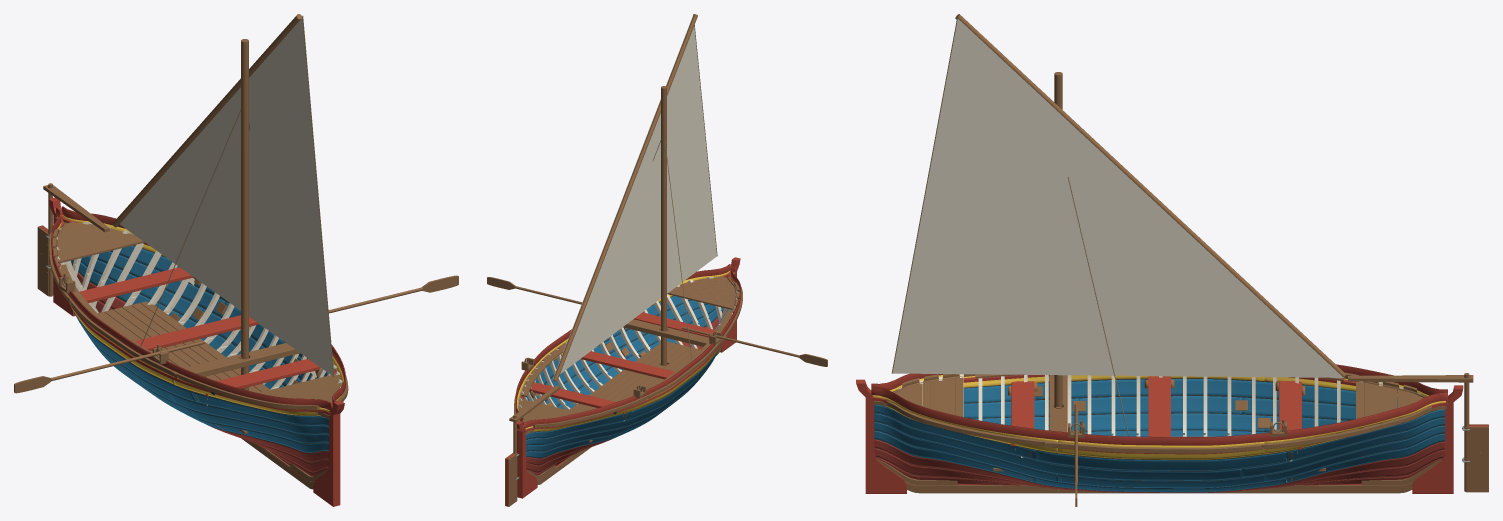
Rendered from gozzo.glb.
3 views of the same model, side by side, from view 1: azimuth 30°, elevation 25°; view 2: azimuth 150°, elevation 25°; view 3: azimuth 270°, elevation 25° (orthographic). The views are drawn at different scales.
Parts seen in each view (by area): view 1: sail-452, mast-450, washboards-74, yard-451, bow-post-5, thwarts-320, thwarts-333, mast-partners-447, planking-52, thwarts-346, planking-58, planking-38 (+29 smaller); view 2: sail-452, yard-451, mast-450, washboards-74, thwarts-333, stern-post-6, mast-partners-447, planking-50, thwarts-320, washboards-171, planking-56, planking-36 (+17 smaller); view 3: sail-452, washboards-171, planking-57, planking-154, keel-0, yard-451, planking-37, planking-51, bow-post-5, planking-149, sheer-strake-168, stern-post-6 (+30 smaller).
Part boxes in pixels (box(x1,y1,x2,y2)): sail-452: box(120, 17, 333, 375); mast-450: box(241, 39, 248, 390); washboards-74: box(51, 207, 331, 410); yard-451: box(112, 14, 301, 227); bow-post-5: box(313, 400, 344, 506); thwarts-320: box(79, 267, 193, 302); thwarts-333: box(135, 315, 259, 350); mast-partners-447: box(183, 343, 299, 376); planking-52: box(168, 392, 328, 434); thwarts-346: box(205, 359, 319, 396); planking-58: box(190, 391, 328, 426); planking-38: box(189, 409, 328, 443); sail-452: box(552, 15, 716, 379); yard-451: box(553, 14, 697, 381); mast-450: box(661, 86, 666, 366); washboards-74: box(523, 265, 741, 428); thwarts-333: box(581, 351, 674, 379); stern-post-6: box(517, 421, 537, 498); mast-partners-447: box(623, 319, 709, 346); planking-50: box(526, 411, 649, 445); thwarts-320: box(529, 382, 625, 414); washboards-171: box(515, 264, 730, 425); planking-56: box(526, 411, 631, 439); planking-36: box(526, 424, 632, 451); sail-452: box(892, 19, 1343, 377); washboards-171: box(871, 386, 1447, 445); planking-57: box(1036, 379, 1278, 399); planking-154: box(1036, 450, 1285, 470); keel-0: box(919, 485, 1400, 493); yard-451: box(955, 14, 1345, 378); planking-37: box(1071, 413, 1264, 431); planking-51: box(1079, 396, 1241, 414); bow-post-5: box(856, 379, 906, 493); planking-149: box(874, 413, 1079, 476); sheer-strake-168: box(1058, 440, 1264, 459); stern-post-6: box(1412, 385, 1463, 493).
Bounding box in the file's own units: 4.88 × 4.81 × 5.73.
